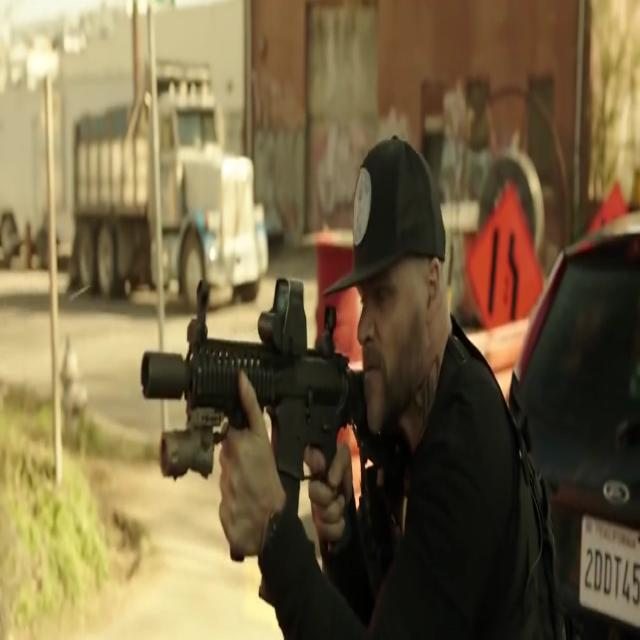Weapon: (99, 299, 364, 490)
